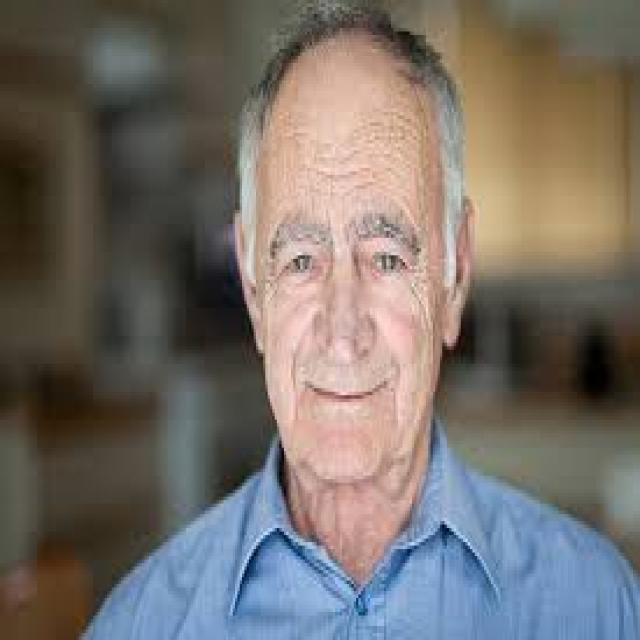normal_face: (231, 46, 471, 526)
